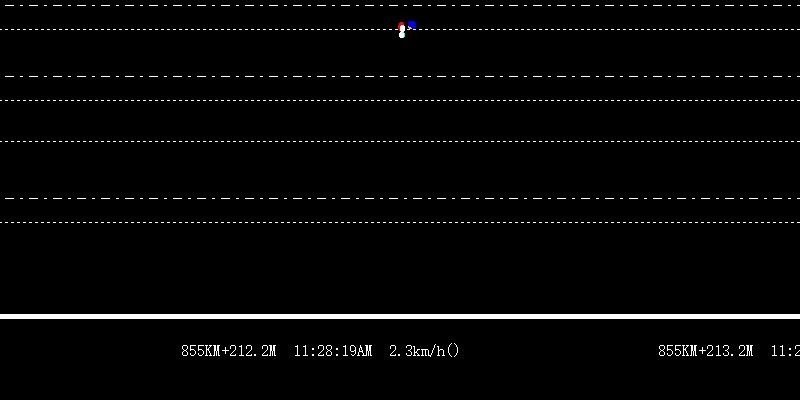face_s: (396, 18, 405, 40), (408, 17, 419, 35)
